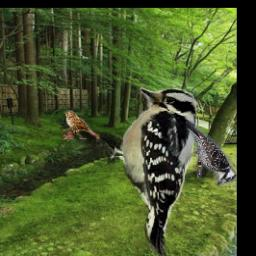Sparrow: (64, 110, 101, 139)
Woodpecker: (97, 84, 200, 256), (186, 121, 236, 185)
